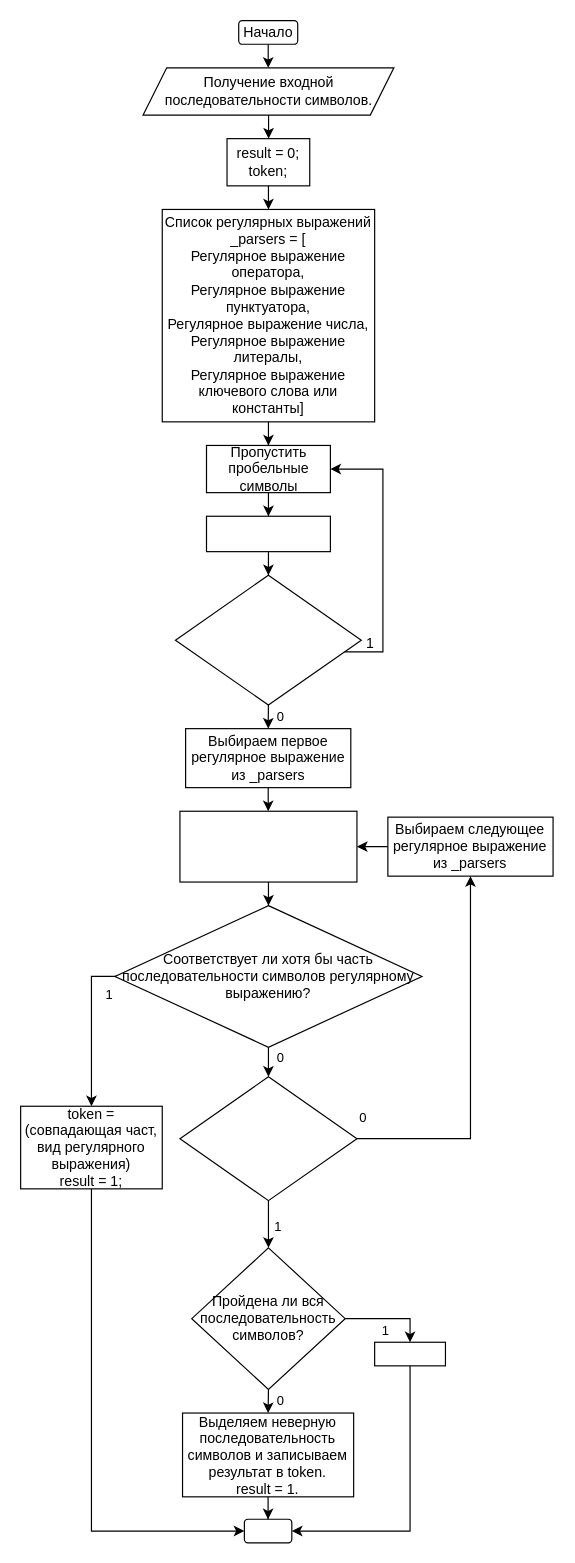
Image size: 575x1563. Some labels were removed from this diagram. The shapes that lost their labels are listed below. From the top down, each one's box as (x1, y1, x2, y2) in pixels, then its label:
(205, 515, 330, 552): Пропустить комментарии
(174, 574, 361, 705): Комментарии были пропущены?
(179, 810, 357, 882): Проверяем последовательность символов на совпадение регулярному выражению
(179, 1076, 357, 1201): Были выбраны все регулярные выражения?
(373, 1341, 445, 1366): result = 0;
(243, 1518, 292, 1543): Конец
